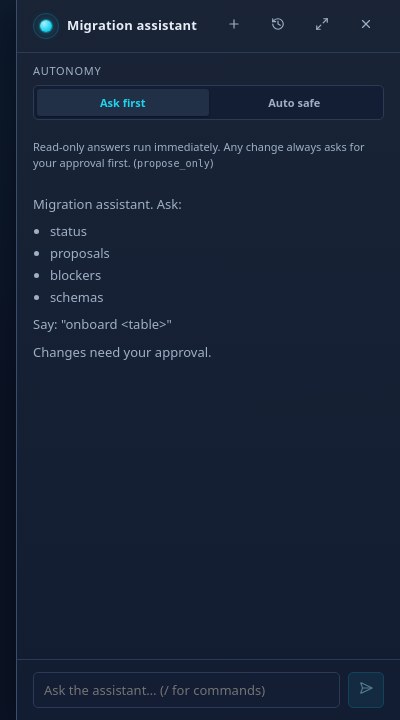
Test: AgentSidebar › opens the slash-command menu and filters as the user types
In the field named "Message the assistant": (186, 690) [33,672,340,708], type "/"
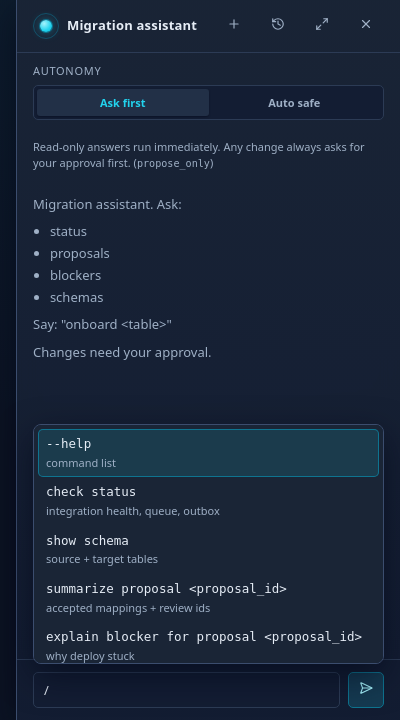
Expected: the list named "Command suggestions" is shown, [33,424,384,664]
# filter narrows the list to matching commands
Replace the text in the field named "Message the assistant" with "/inspect": (186, 690) [33,672,340,708]
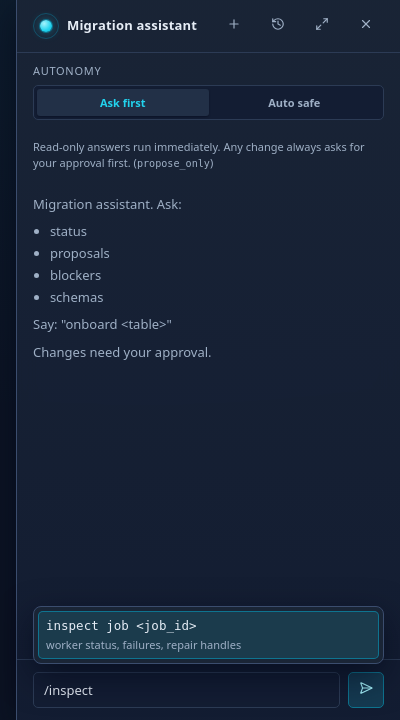
Expected: the number of options is 1, [38,611,379,659]
Expected: the option shows "inspect job <job_id>", [38,611,379,659]
